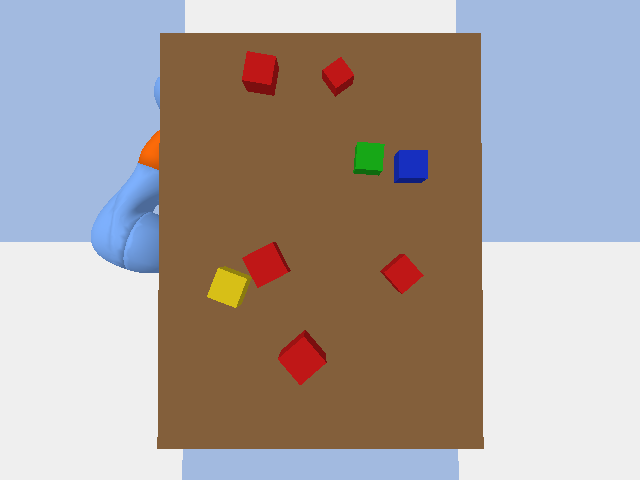blue_obj: (394, 150, 427, 182)
green_obj: (353, 142, 384, 175)
red_obj: (278, 330, 326, 384), (242, 242, 290, 287), (380, 254, 423, 293), (242, 51, 278, 95), (322, 57, 353, 96)
yellow_obj: (207, 266, 251, 307)
